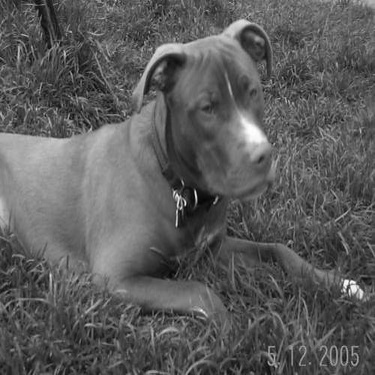dog: (3, 16, 372, 340)
